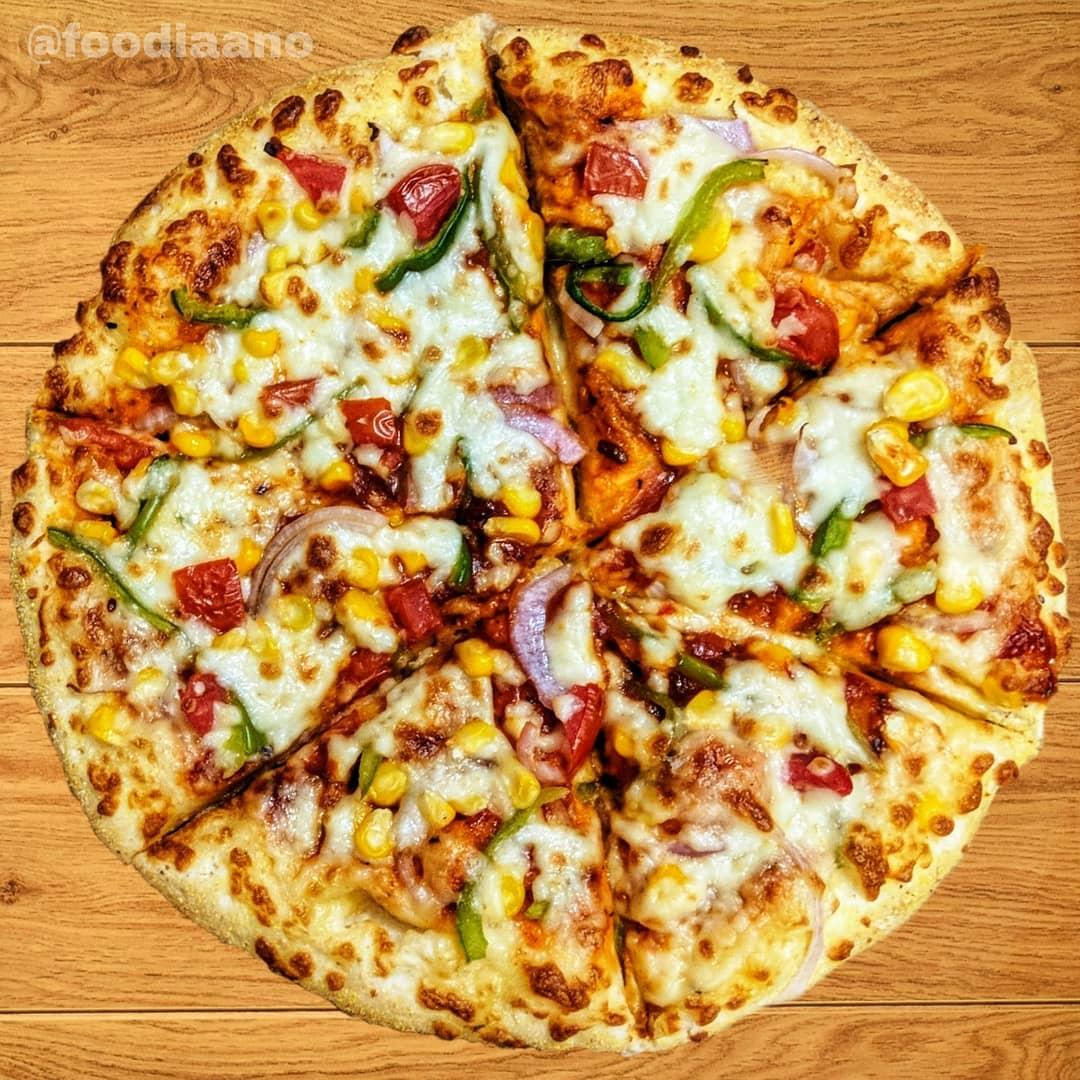Corn: (485, 471, 549, 550), (858, 421, 923, 492), (364, 761, 403, 869), (686, 192, 737, 266), (755, 492, 807, 560), (454, 631, 525, 680), (161, 401, 221, 458), (345, 549, 388, 625), (390, 406, 449, 461), (874, 628, 938, 678), (441, 328, 506, 377), (881, 374, 951, 418), (481, 854, 523, 923), (114, 348, 190, 385), (815, 276, 858, 340), (234, 403, 283, 459), (361, 801, 405, 860), (441, 718, 509, 754), (254, 244, 296, 301), (250, 183, 293, 238), (234, 321, 290, 363), (930, 575, 988, 615), (514, 203, 556, 257), (654, 437, 711, 474), (81, 708, 145, 740), (494, 768, 545, 805), (424, 120, 482, 151), (286, 192, 327, 235), (274, 594, 310, 638), (214, 621, 265, 652), (494, 151, 528, 196), (712, 406, 755, 441), (368, 308, 411, 340), (383, 541, 425, 573), (730, 259, 769, 293), (336, 185, 375, 218), (424, 791, 452, 832), (343, 261, 381, 288), (231, 354, 246, 390)
Onion: (694, 94, 856, 192), (241, 501, 392, 587), (511, 551, 576, 729), (491, 381, 581, 456)
Peppers: (601, 161, 767, 318), (531, 221, 678, 363), (444, 811, 567, 951), (38, 514, 167, 623), (368, 198, 492, 305), (781, 514, 856, 594), (164, 291, 263, 325), (661, 651, 714, 703)
Pizza: (21, 24, 1067, 1056)
Tomatoes: (74, 388, 150, 467), (548, 688, 612, 774), (378, 168, 461, 234), (771, 288, 836, 361), (274, 151, 347, 212), (174, 561, 247, 618), (878, 481, 934, 552), (394, 574, 443, 645), (341, 394, 401, 445), (791, 748, 847, 792), (178, 678, 221, 734), (588, 141, 640, 187)
